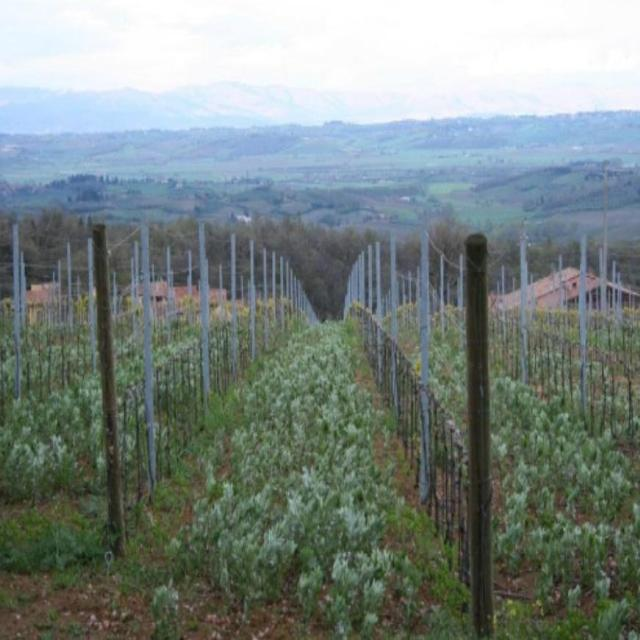row: (111, 310, 458, 606), (383, 314, 640, 622), (0, 308, 291, 558)
